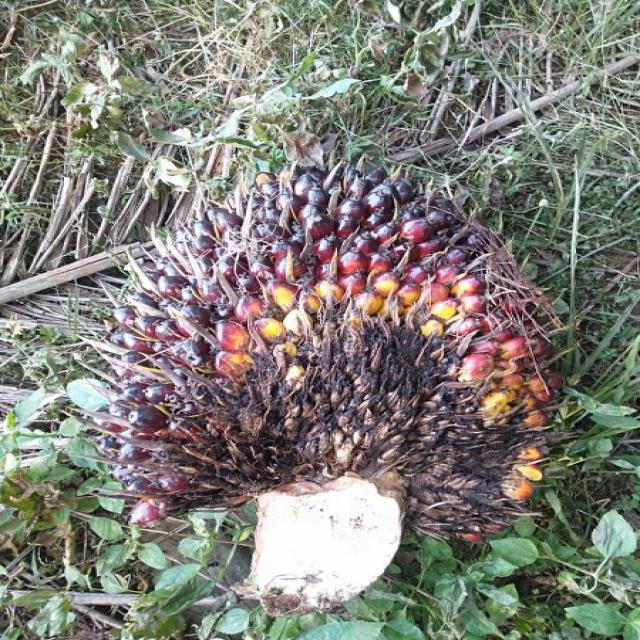fraksi 1: (42, 90, 604, 605)
